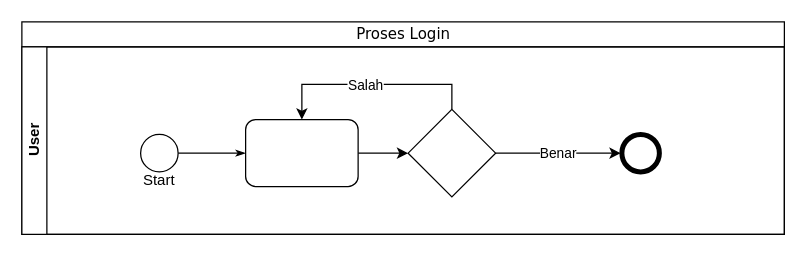
Some shapes in this 806 by 256 pixel diagram are drawn without their labels. Each missing label, with the centre of its shape:
Benar?: point (451, 152)
Input email dan password: point (301, 152)
